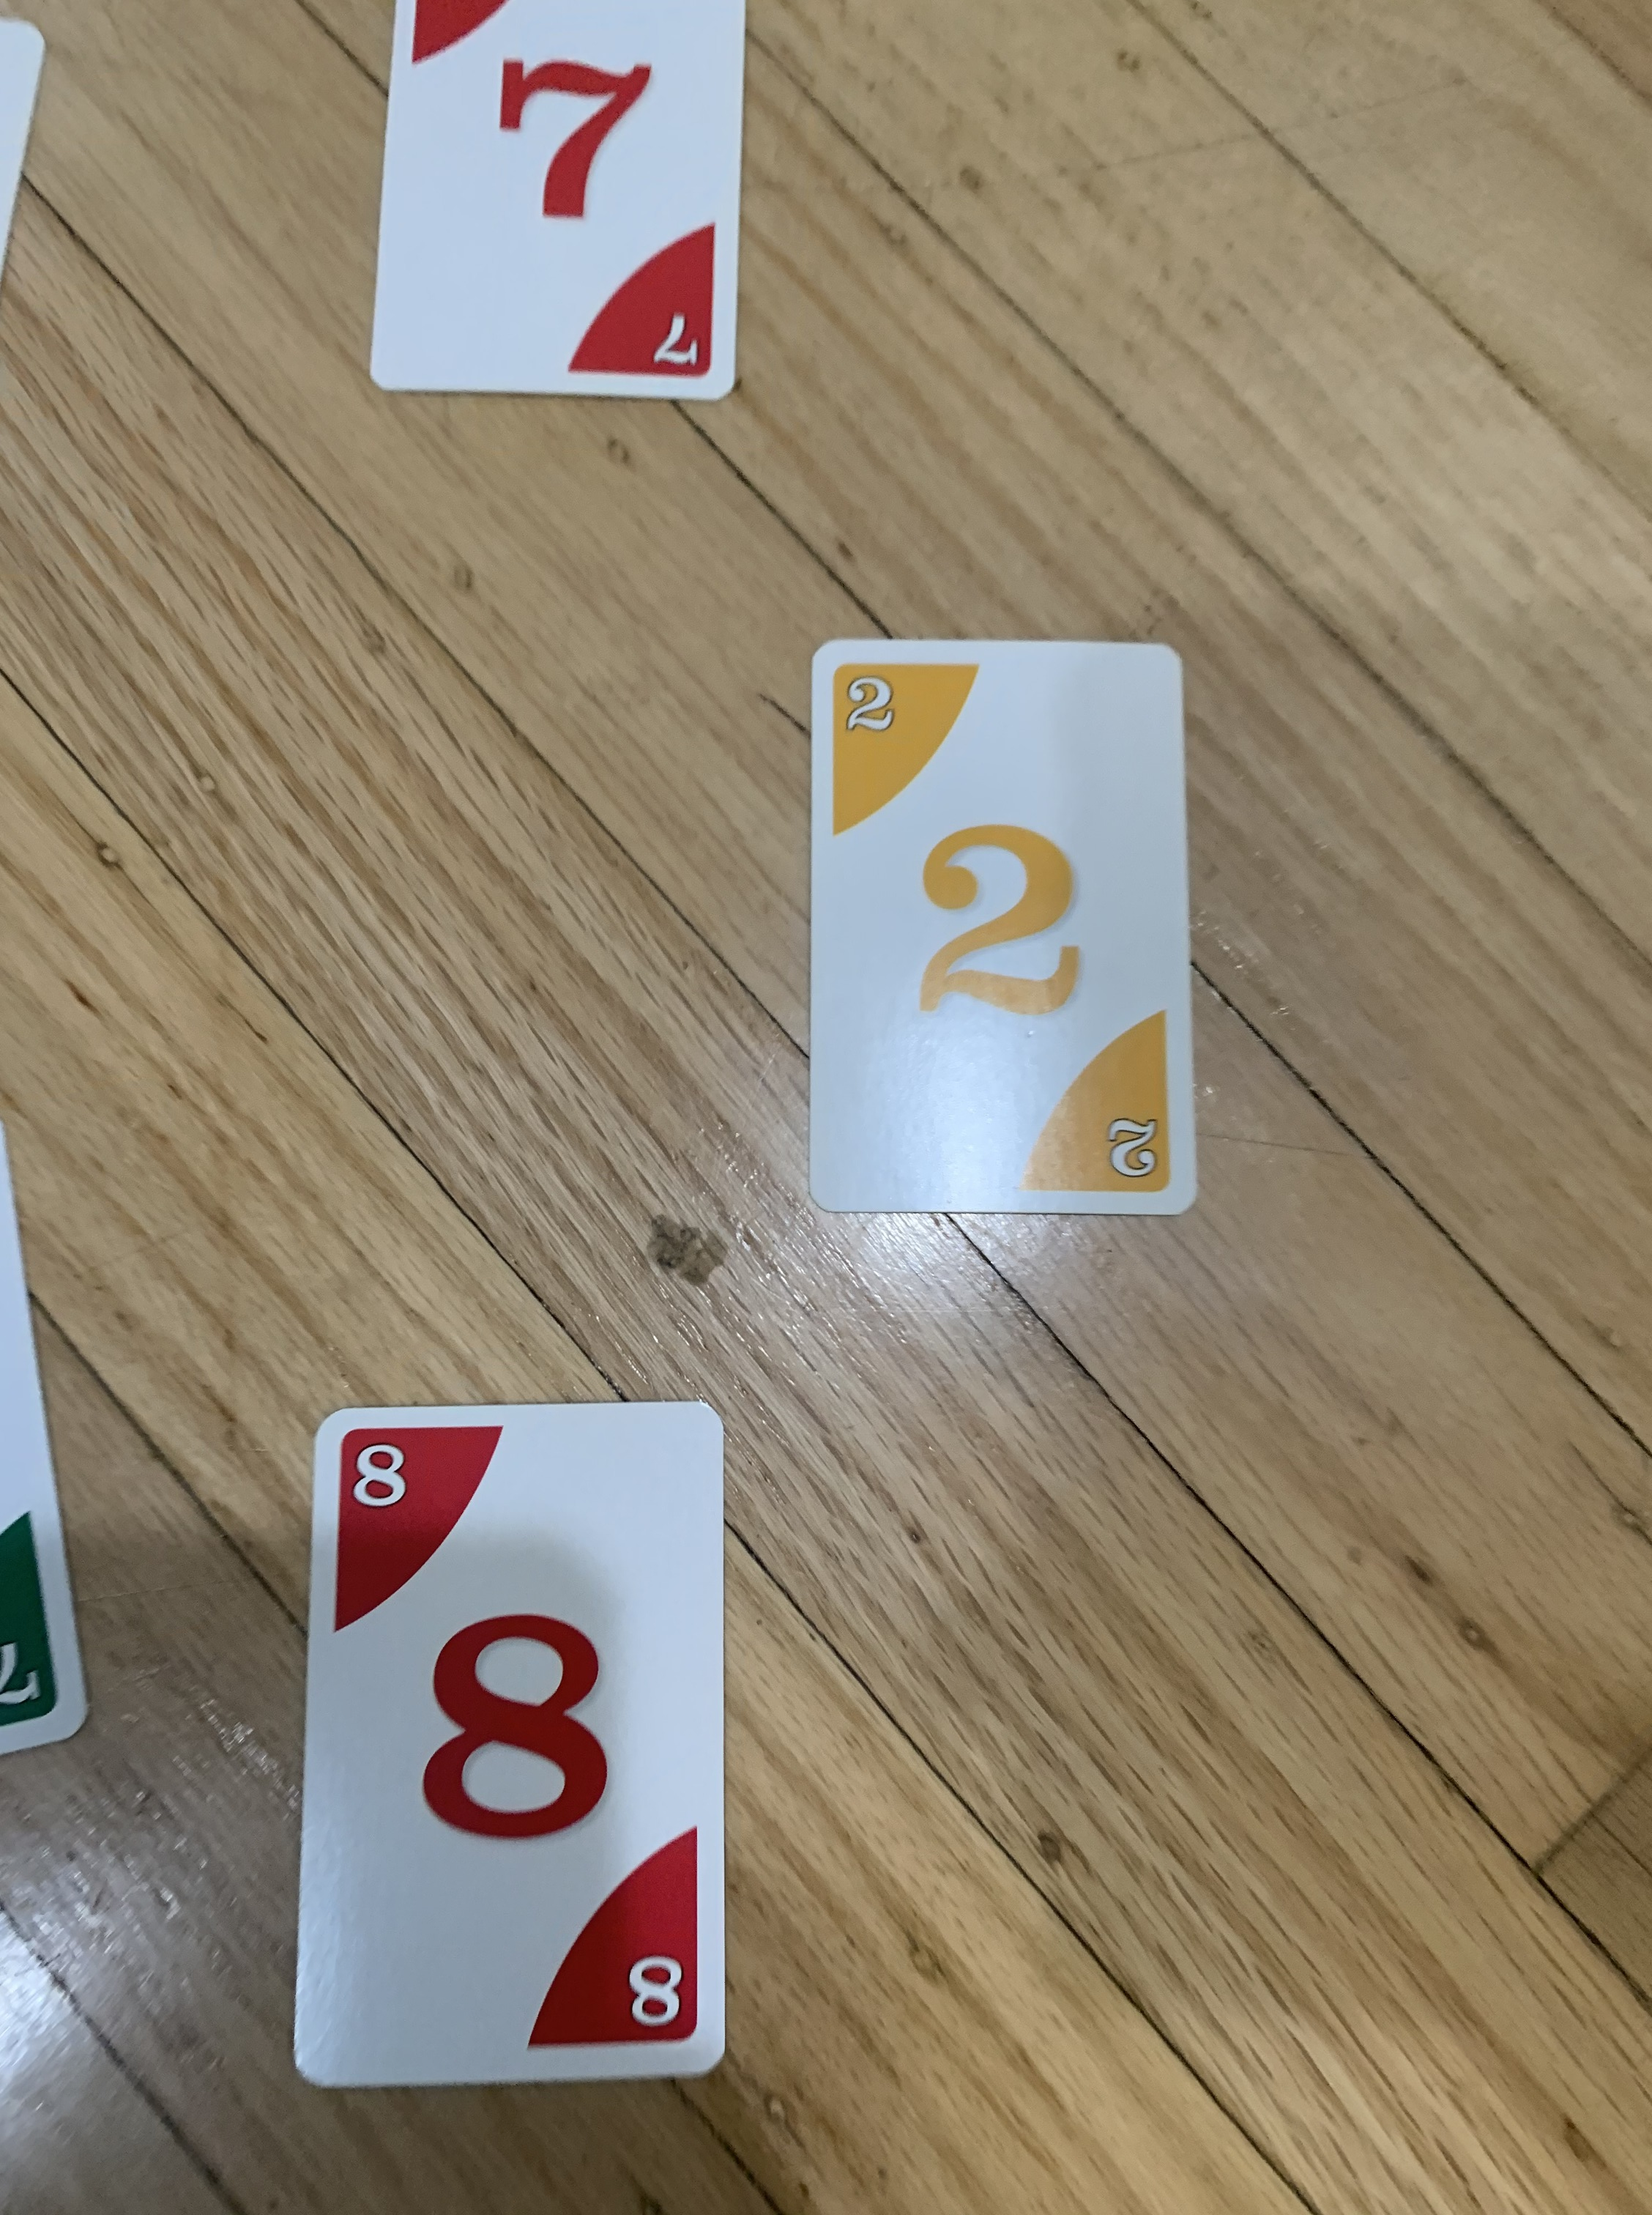eight: (278, 1390, 753, 2106)
seven: (335, 0, 779, 415)
two: (786, 620, 1216, 1229)
